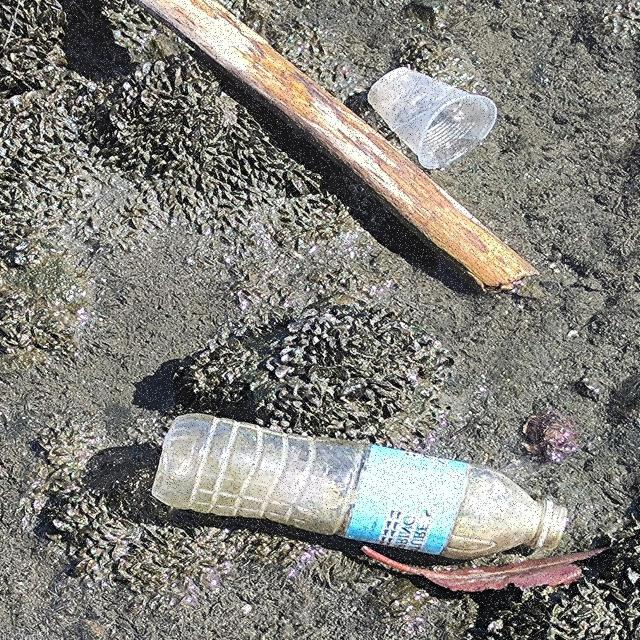plastic_waste: (151, 412, 572, 563), (367, 66, 500, 170)
